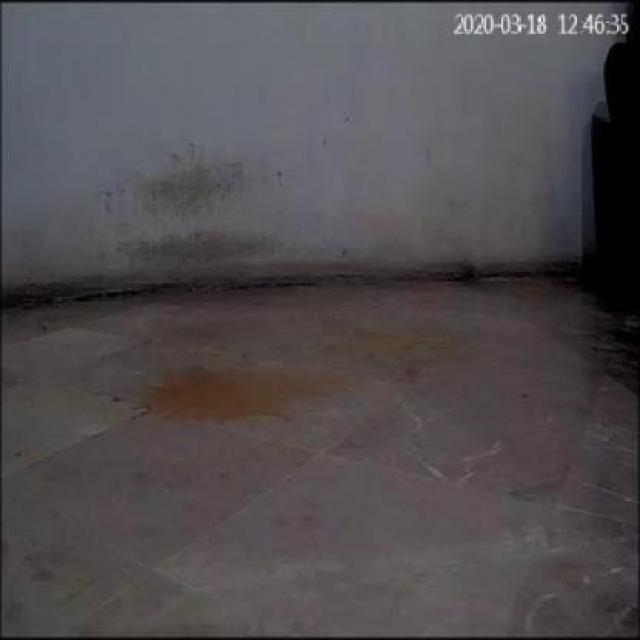spillage: (135, 370, 350, 417), (367, 327, 455, 357)
